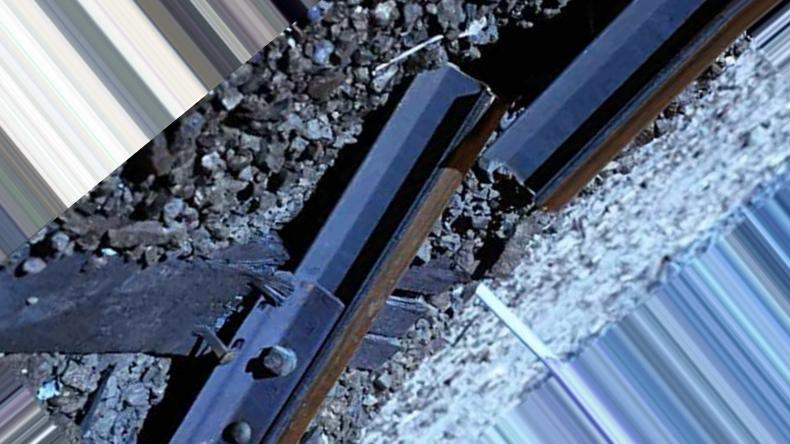tracks_fault: (356, 21, 596, 331), (174, 255, 311, 389)
